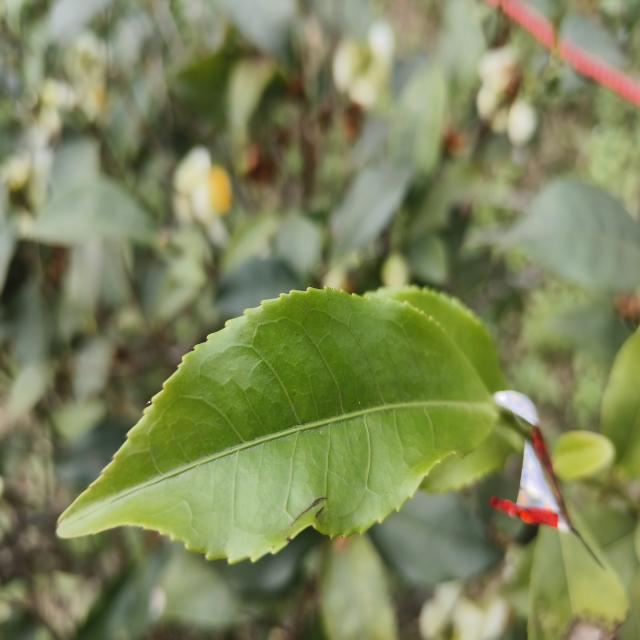Leaf: (58, 288, 496, 561), (498, 178, 640, 291), (367, 491, 501, 586), (528, 525, 629, 640), (30, 177, 169, 248), (76, 547, 168, 640), (320, 535, 398, 640), (330, 162, 411, 257), (389, 64, 447, 174), (601, 327, 640, 477), (217, 258, 301, 319), (222, 0, 295, 56), (552, 431, 615, 480)
